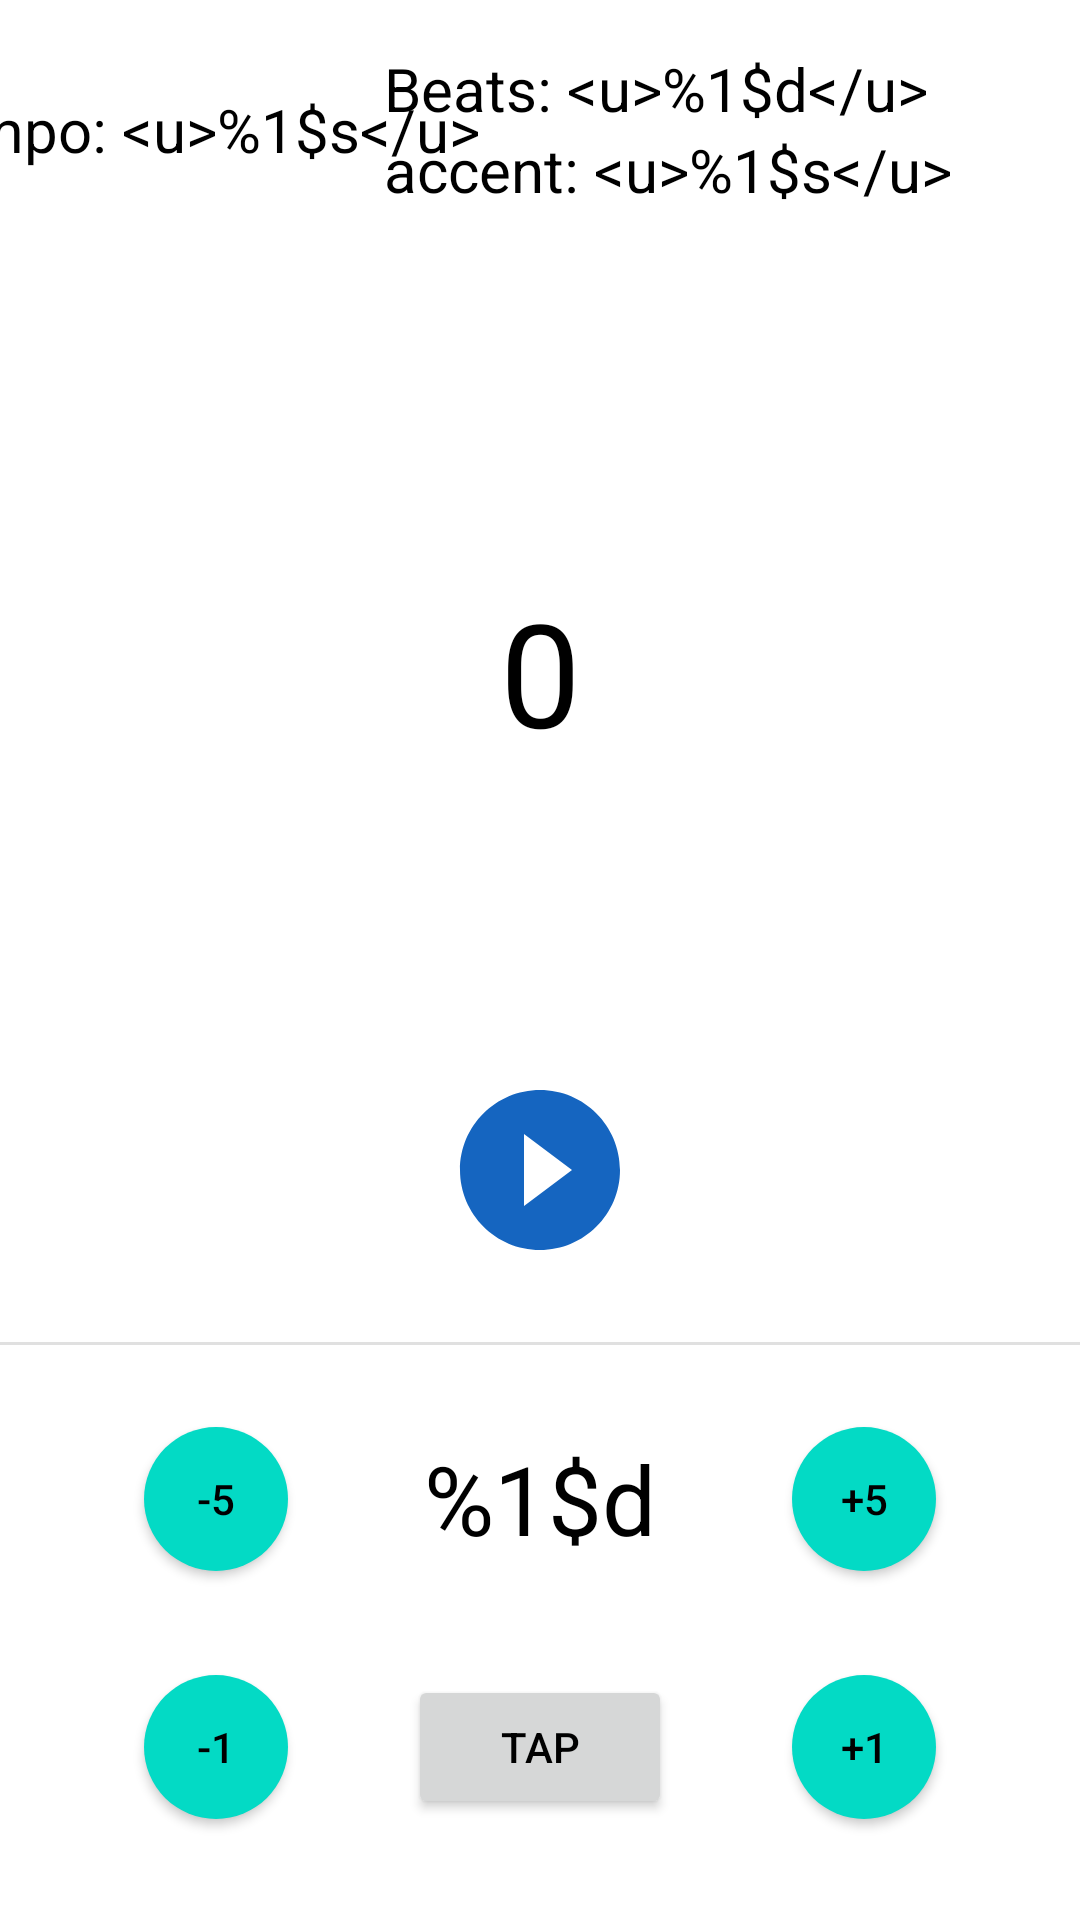

Point at icon controls on the screen. Image size 1080px×1920px, points as [x,y].
Play/pause: [540,1170]
